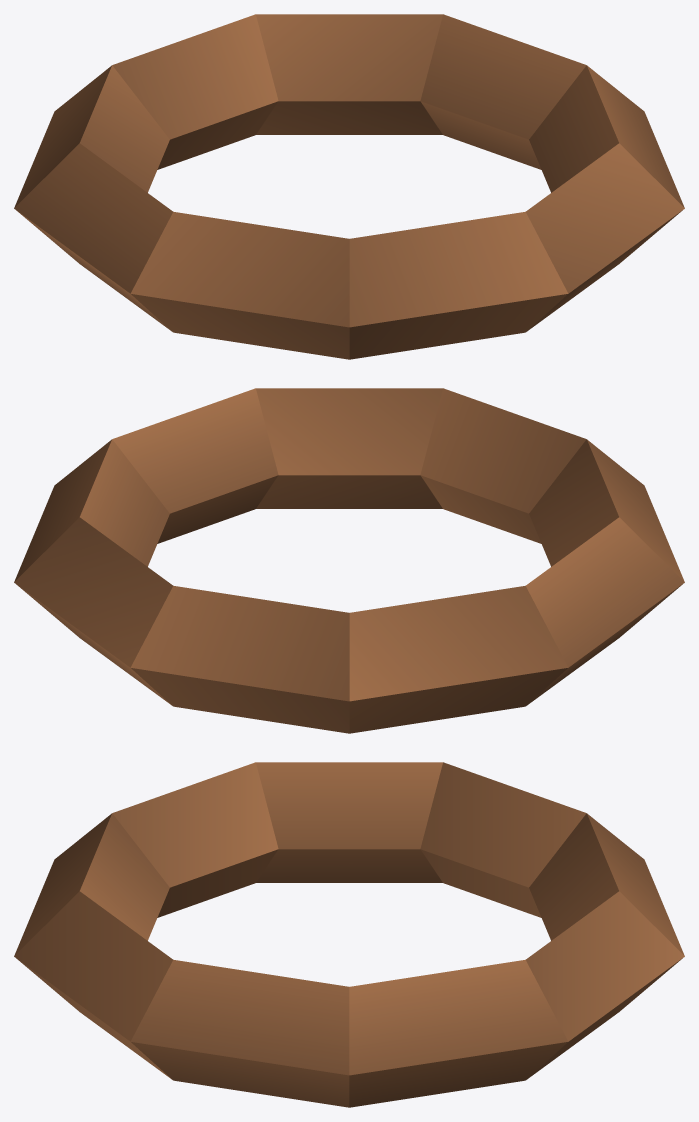
The model's file is wreath.fbx.
3 views of the same model, one above another, from view 1: azimuth 30°, elevation 25°; view 2: azimuth 150°, elevation 25°; view 3: azimuth 270°, elevation 25° (orthographic).
Visible parts, largest first — view 1: wreath; view 2: wreath; view 3: wreath.
Part boxes in pixels (x1,y1,x2,y2): wreath: (14, 14, 684, 359); wreath: (14, 388, 684, 733); wreath: (14, 762, 684, 1107).
Bounding box in the file's own units: 295 × 59.65 × 300.
